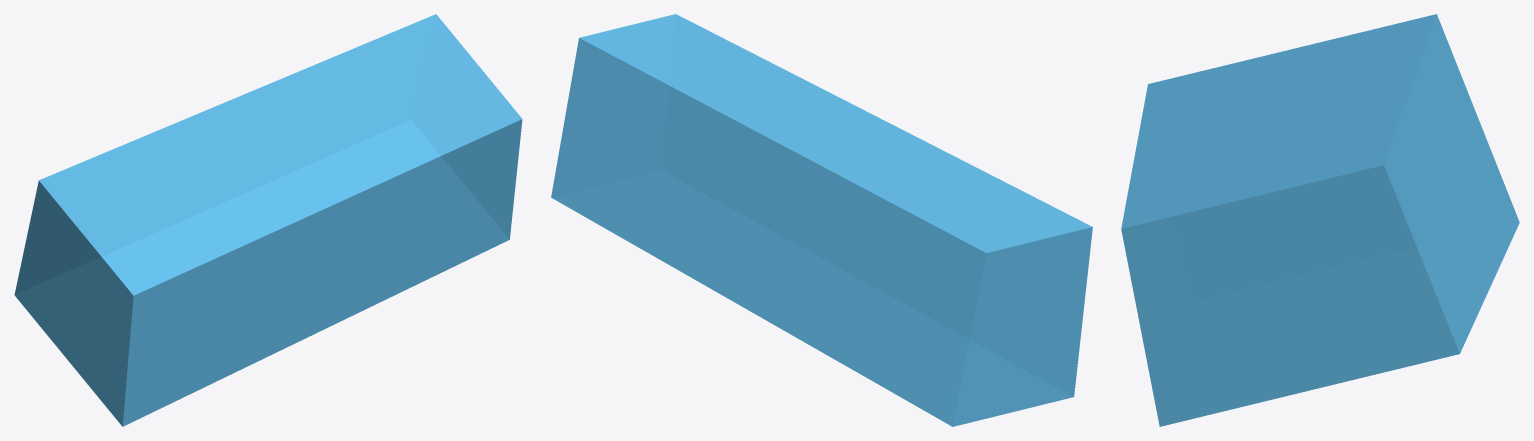
File: Event_420107950_HErechit_52.fbx
3 renders of one model, left to right at view 1: azimuth 30°, elevation 25°; view 2: azimuth 150°, elevation 25°; view 3: azimuth 270°, elevation 25°, orthographic. The views are drawn at different scales.
Visible parts, largest first — view 1: Model; view 2: Model; view 3: Model.
Boxes of the visible parts, left/top/right/bottom form: Model: left=14, top=14, right=522, bottom=426; Model: left=551, top=14, right=1092, bottom=426; Model: left=1121, top=14, right=1519, bottom=426.
Size of the model in its own units: 1.1 by 0.7558 by 0.6531.
